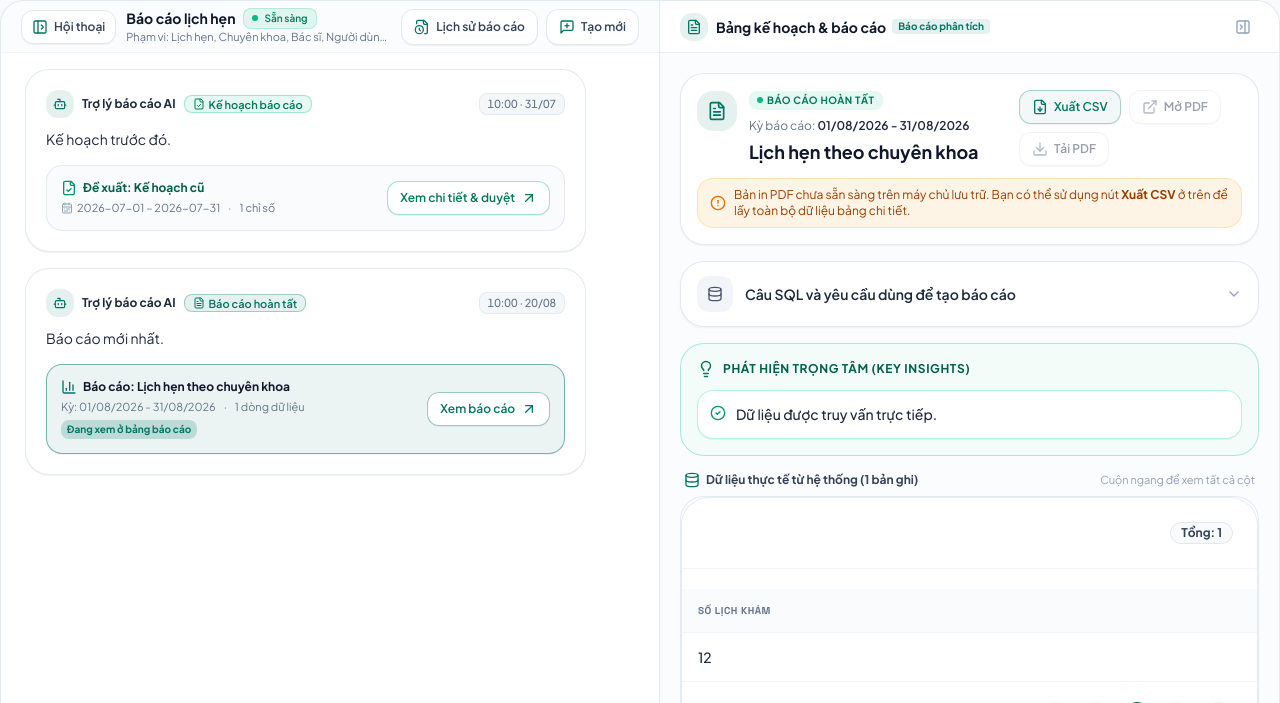
it: AdminAiReportAssistantPage › allows selecting a specific artifact from message history to inspect
Expected: the button "Xuất CSV" is shown, [1019,90,1121,124]
Expected: the button "Xác nhận và tạo báo cáo" is not shown
// Clicking the plan's anchor in chat switches the artifact workspace to that plan
Click the button "Xem chi tiết & duyệt" at (469, 198), box [387,181,550,215]
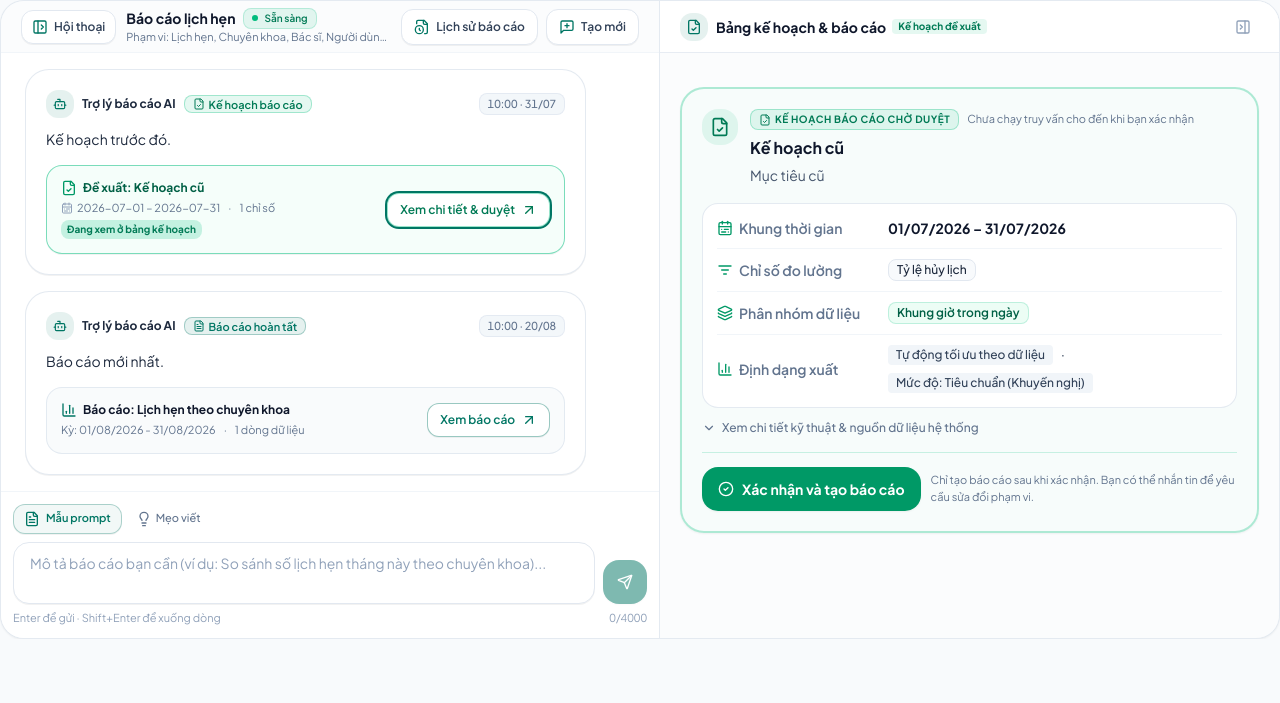
Expected: the button "Xác nhận và tạo báo cáo" is shown, [702,467,921,511]
Expected: the heading "Kế hoạch cũ" is shown, [750,137,844,158]
